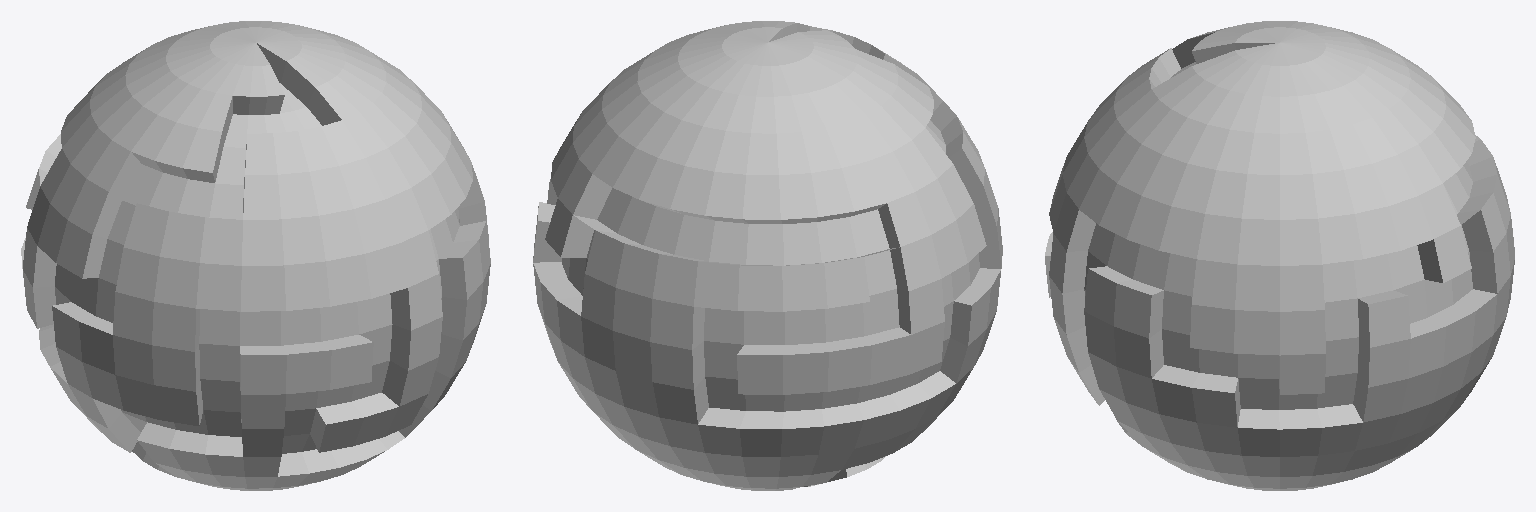
File: crystal.obj
The picture shows the model from 3 angles: view 1: azimuth 30°, elevation 25°; view 2: azimuth 150°, elevation 25°; view 3: azimuth 270°, elevation 25°; orthographic projection.
Parts seen in each view (by area): view 1: Sphere; view 2: Sphere; view 3: Sphere.
Boxes of the visible parts, <box> form: Sphere: <box>21,21,490,490</box>; Sphere: <box>533,21,1002,490</box>; Sphere: <box>1045,21,1514,490</box>.
Size of the model in its own units: 2 by 2 by 2.